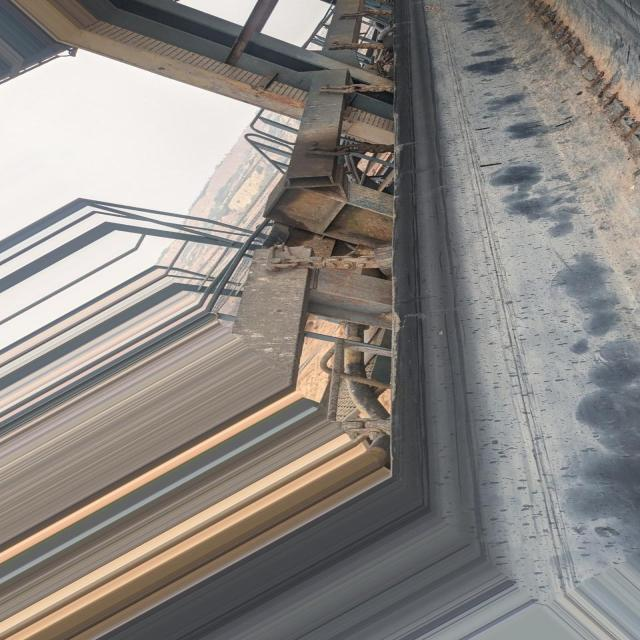patch work: (516, 0, 640, 185)
